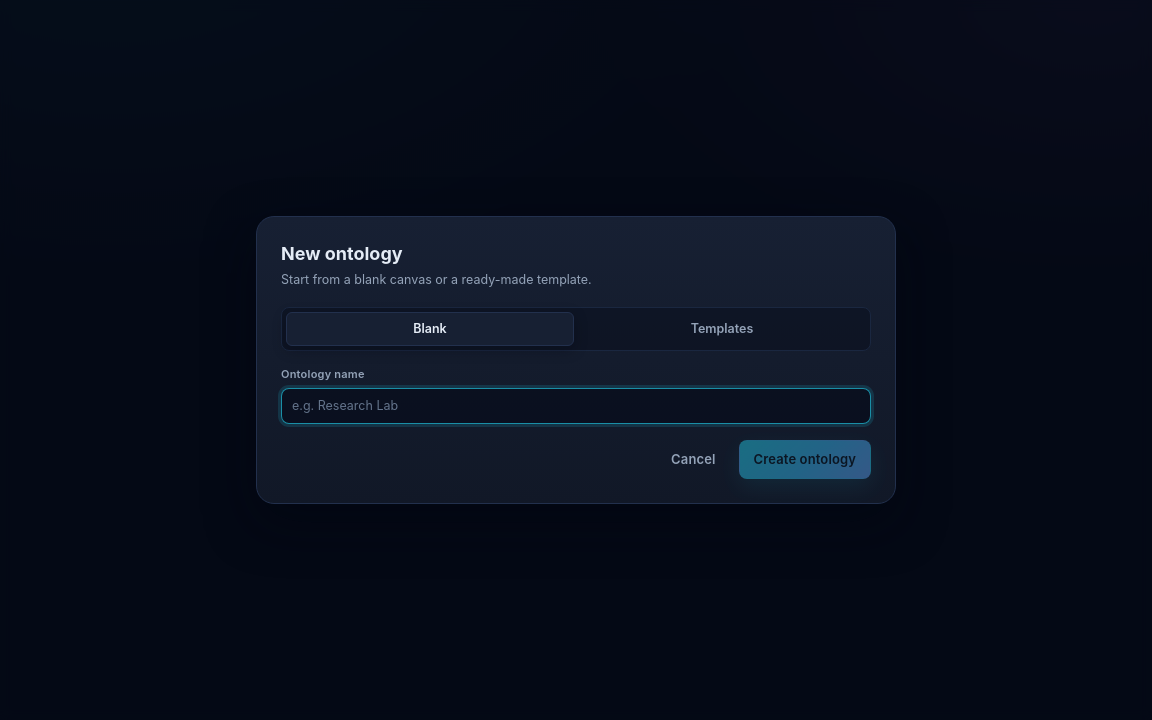
it: NewOntologyDialog template picker › filters template cards by a search keyword
Click the tab with test id "template-tab-templates": coordinates (722, 329) [578,312,866,346]
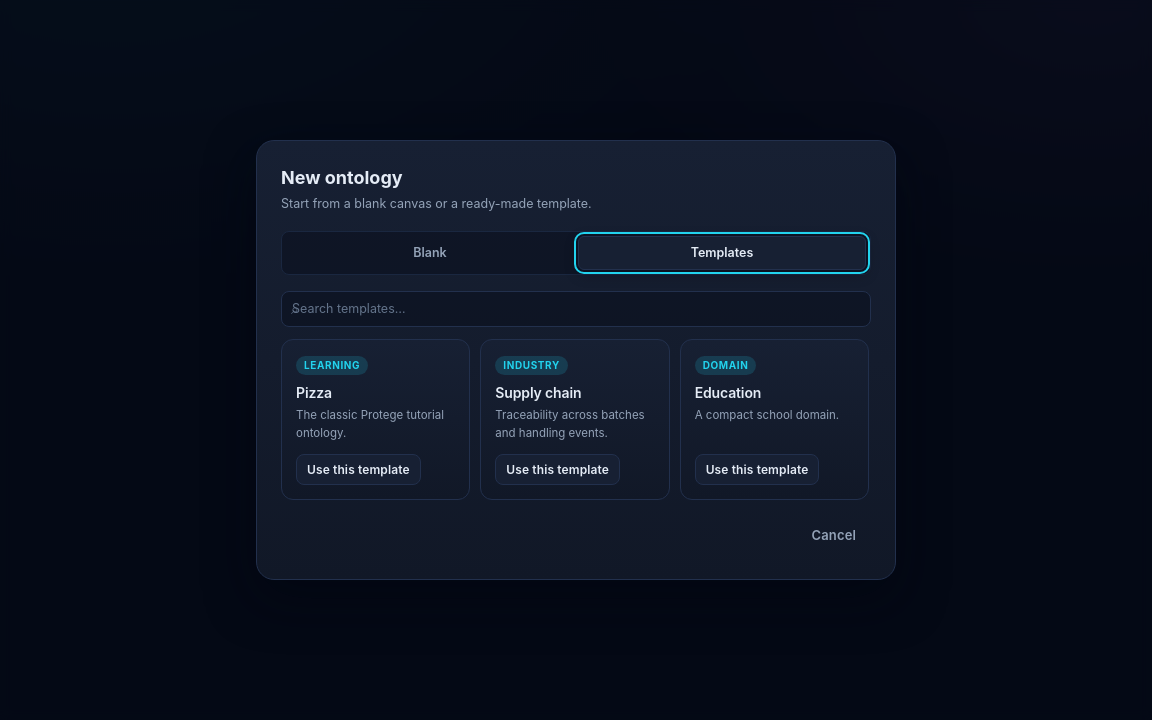
In the search field with test id "template-search": coordinates (576, 309) [281,291,871,327], type "supply"
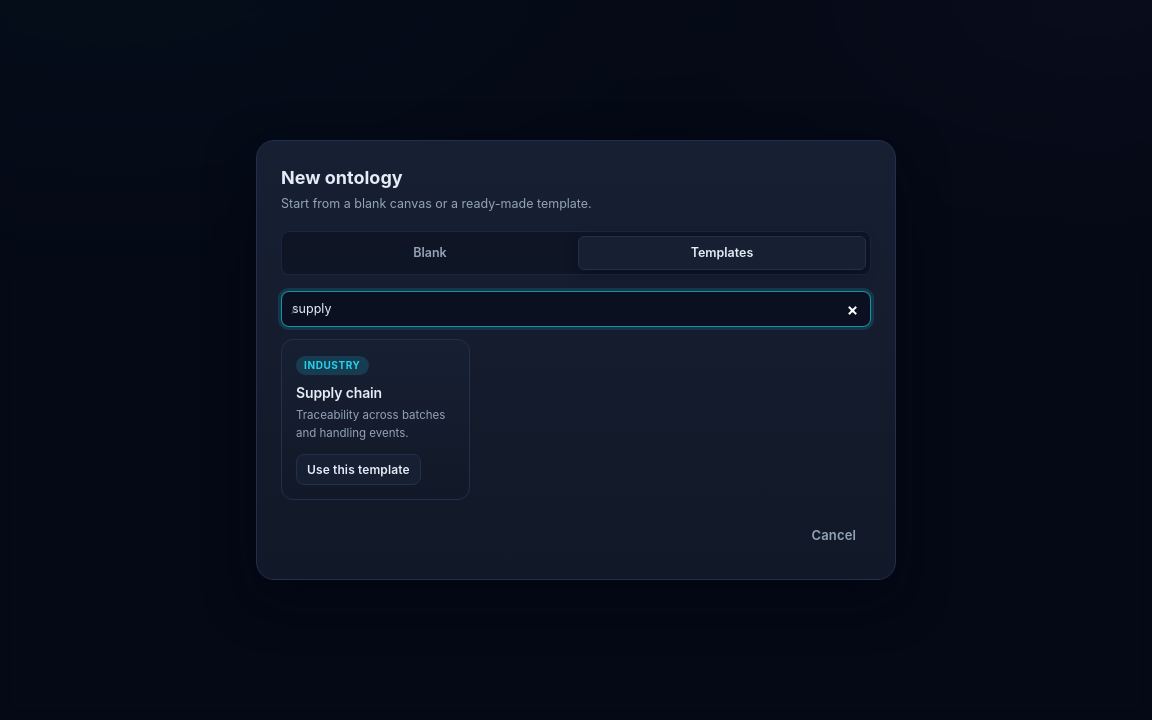
Now the element with test id "template-card-supply-chain" is shown, box [281,340,470,500]
Now the element with test id "template-card-pizza" is gone
Now the element with test id "template-card-education" is gone
